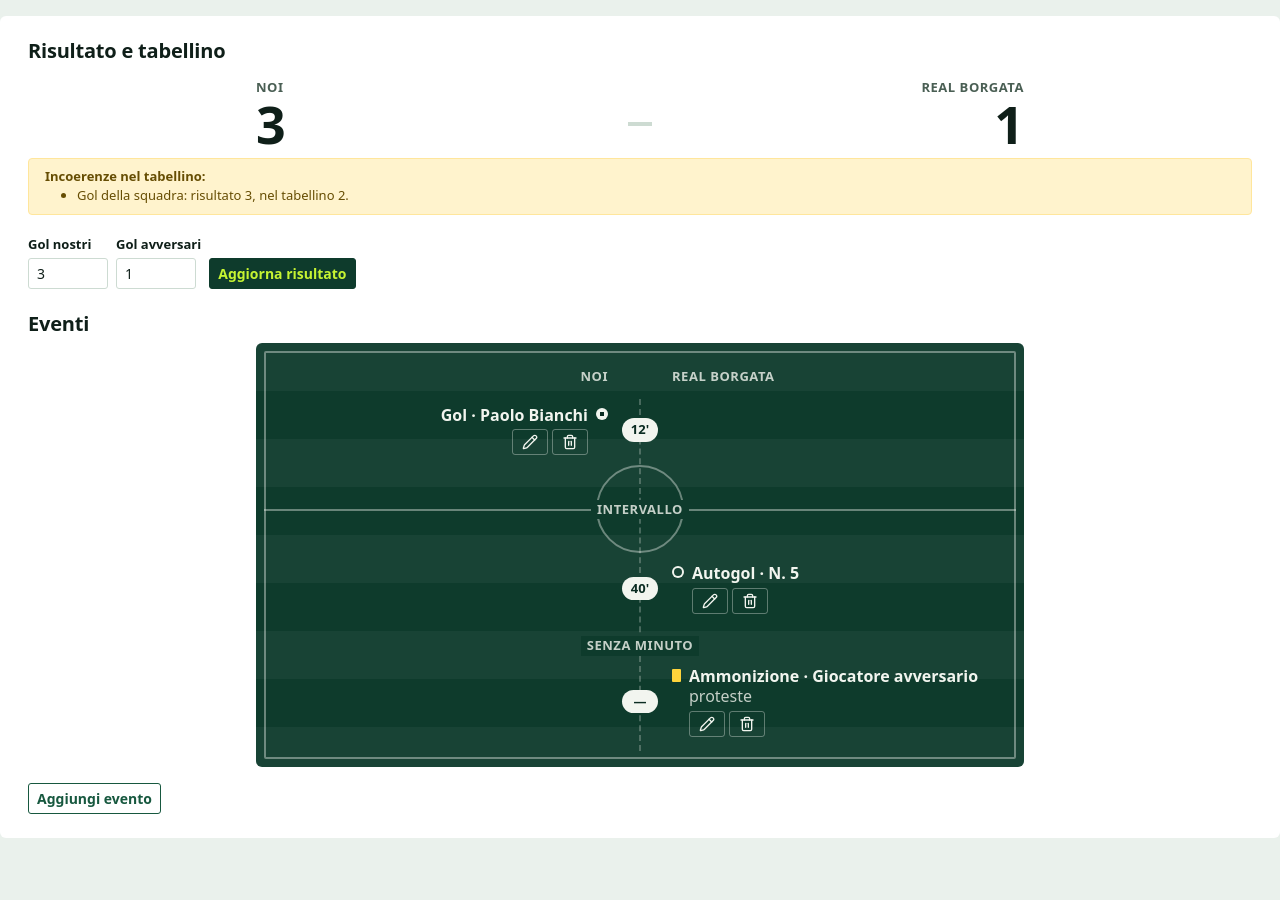
ScoresheetCard › l'Admin elimina un evento dopo conferma
Click the button named "Elimina: Gol · Paolo Bianchi": x=570, y=442 x1=552 y1=429 x2=588 y2=455
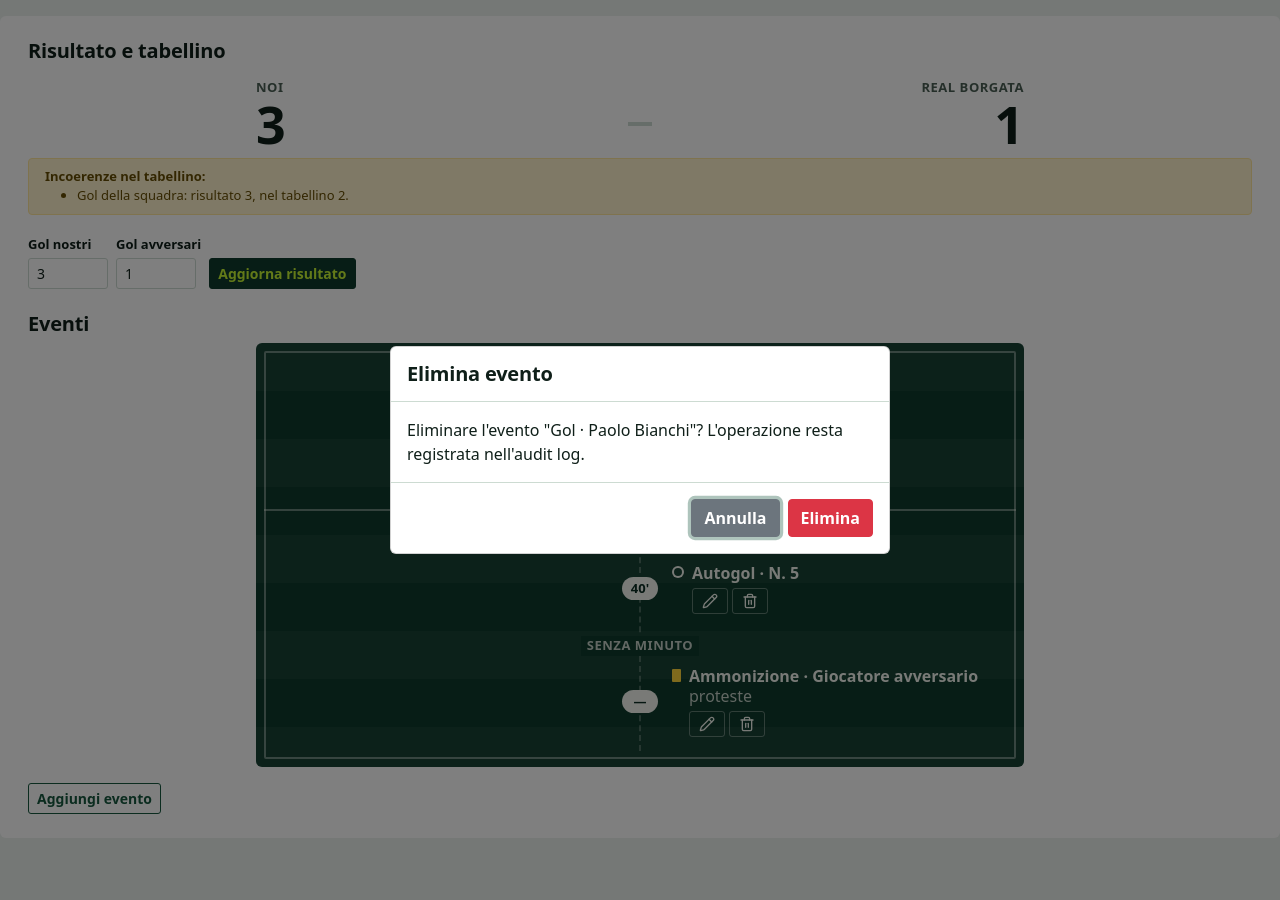
Click the button "Elimina": x=830, y=518 x1=788 y1=499 x2=873 y2=537
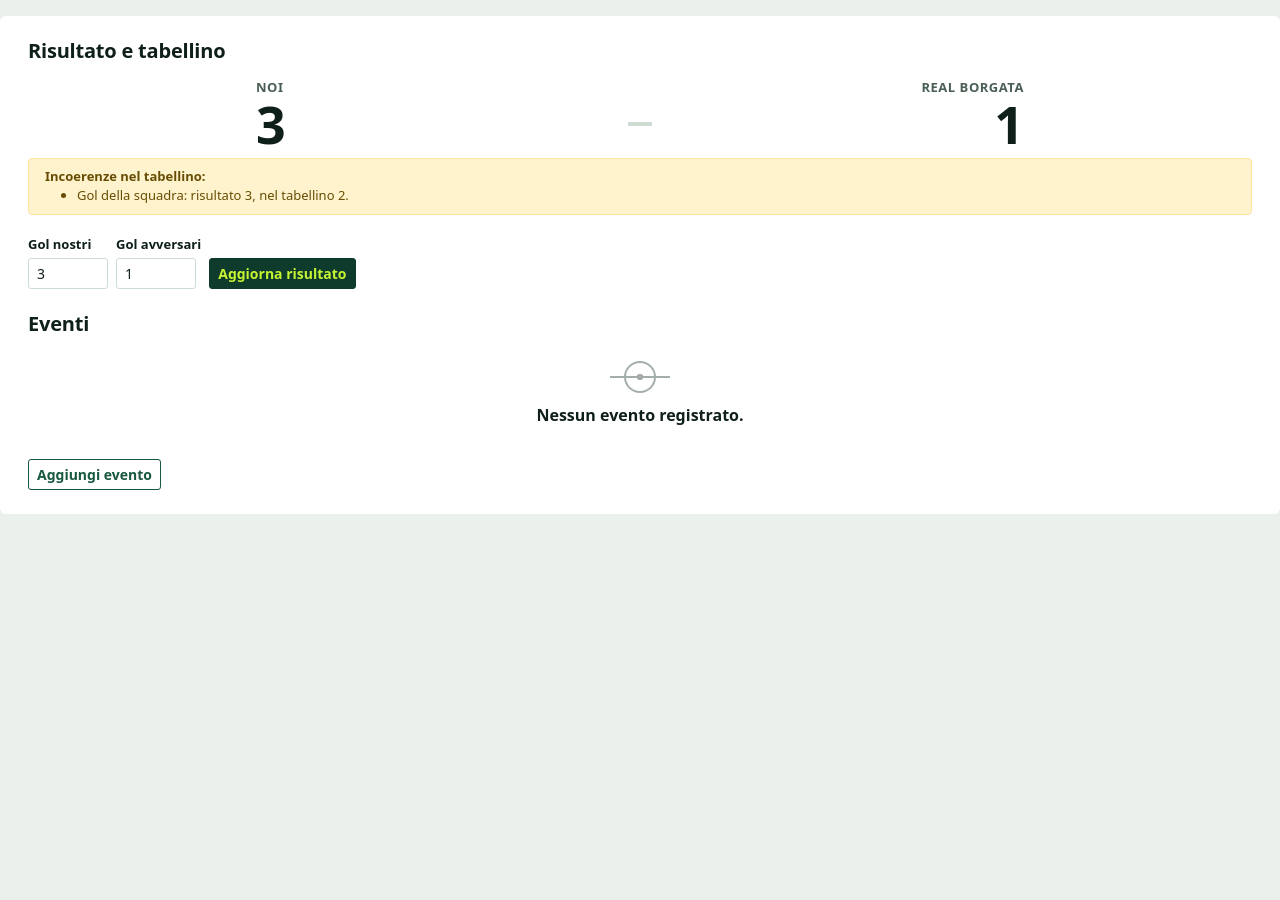
Now the text "Nessun evento registrato." is shown, box x1=536 y1=403 x2=744 y2=427
